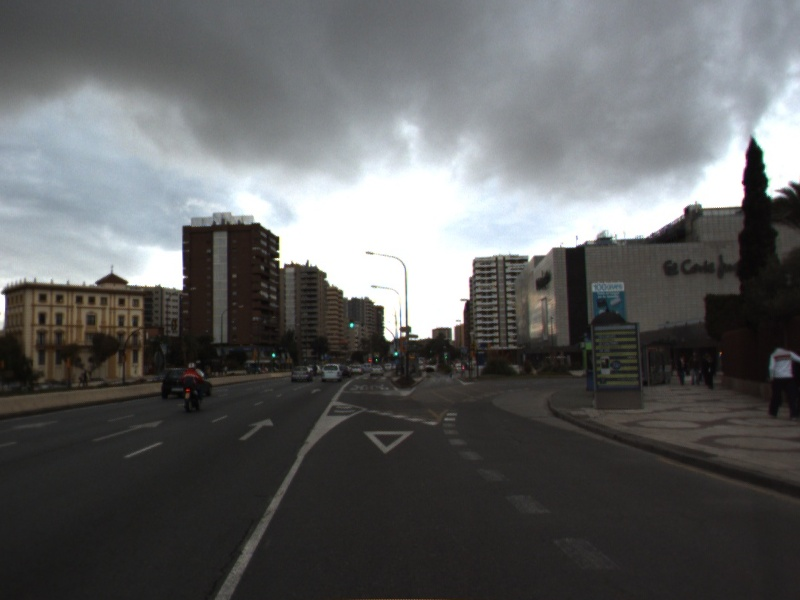STRAIGHT: (89, 417, 168, 444), (236, 416, 276, 442)
